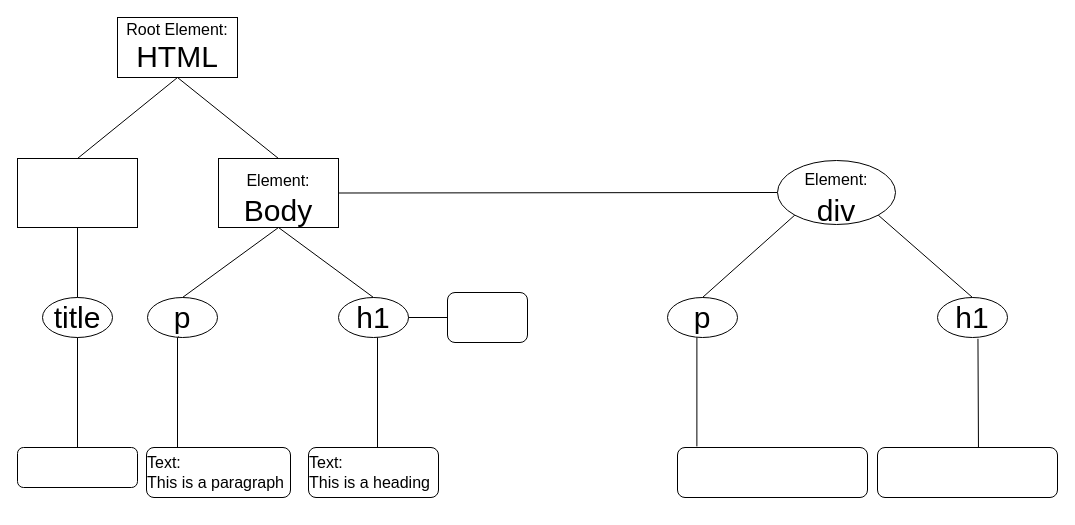
Some shapes in this 1075 by 525 pixel diagram are drawn without their labels. Each missing label, with the centre of its shape:
- Page Title: (x=77, y=467)
Attribute: class: (x=487, y=317)
Element: Head: (x=77, y=193)
Text This is another heading: (x=967, y=472)
Text This is another paragraph: (x=772, y=472)
